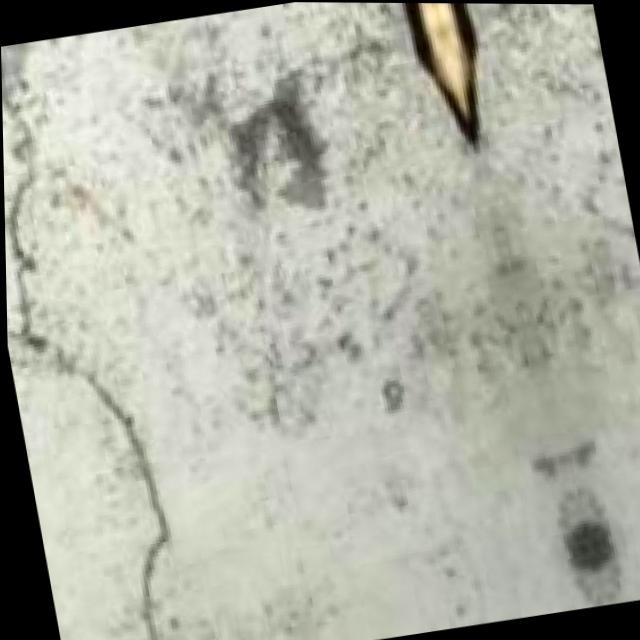Crack: (1, 36, 203, 640)
